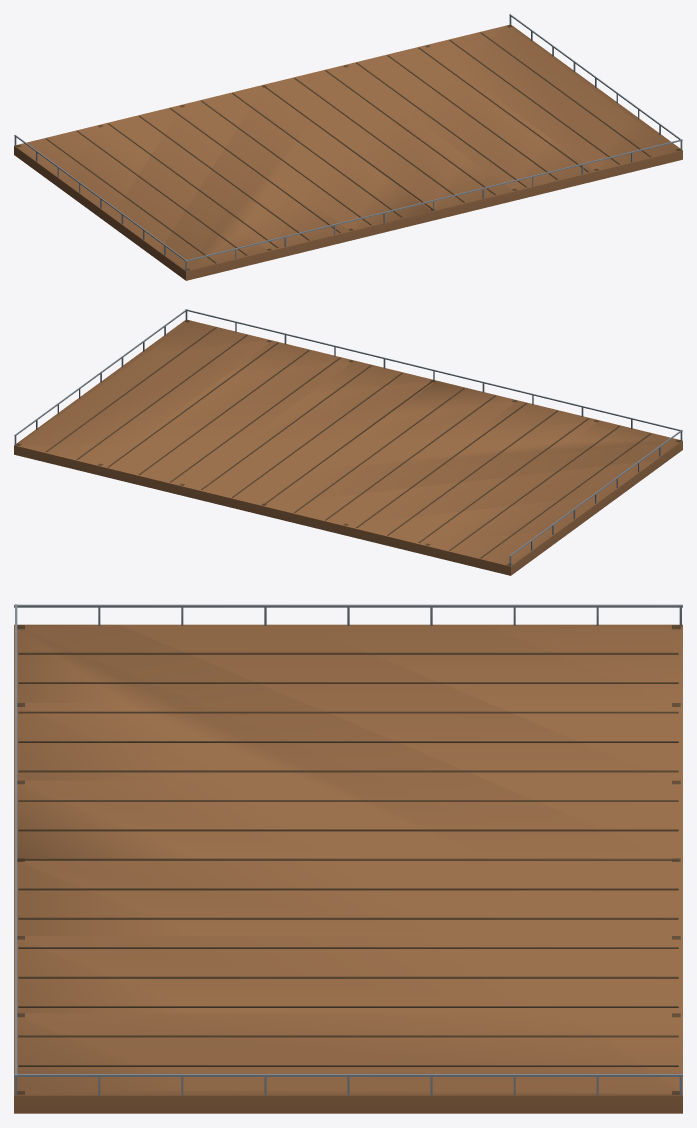
Rendered from timber-deck.glb.
3 renders of one model, top to bottom at view 1: azimuth 30°, elevation 25°; view 2: azimuth 150°, elevation 25°; view 3: azimuth 270°, elevation 25°, orthographic. The views are drawn at different scales.
Parts seen in each view (by area): view 1: timber-deck; view 2: timber-deck; view 3: timber-deck.
Boxes of the visible parts, x1,y1,x2,y2 form: timber-deck: (14,14,682,280); timber-deck: (14,309,682,575); timber-deck: (14,604,682,1113).
Bounding box in the file's own units: 50 × 1.9 × 30.
